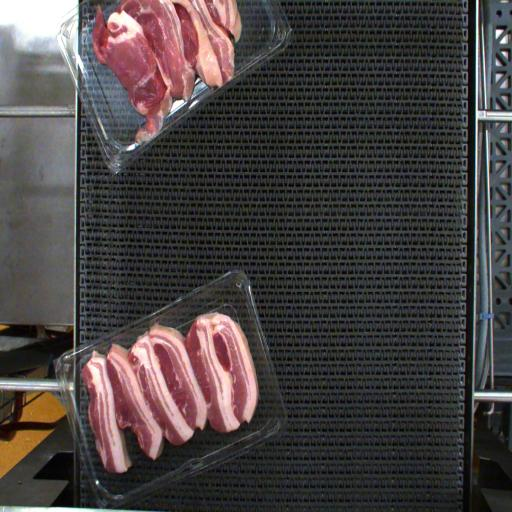packaging-error: (145, 316, 161, 326)
